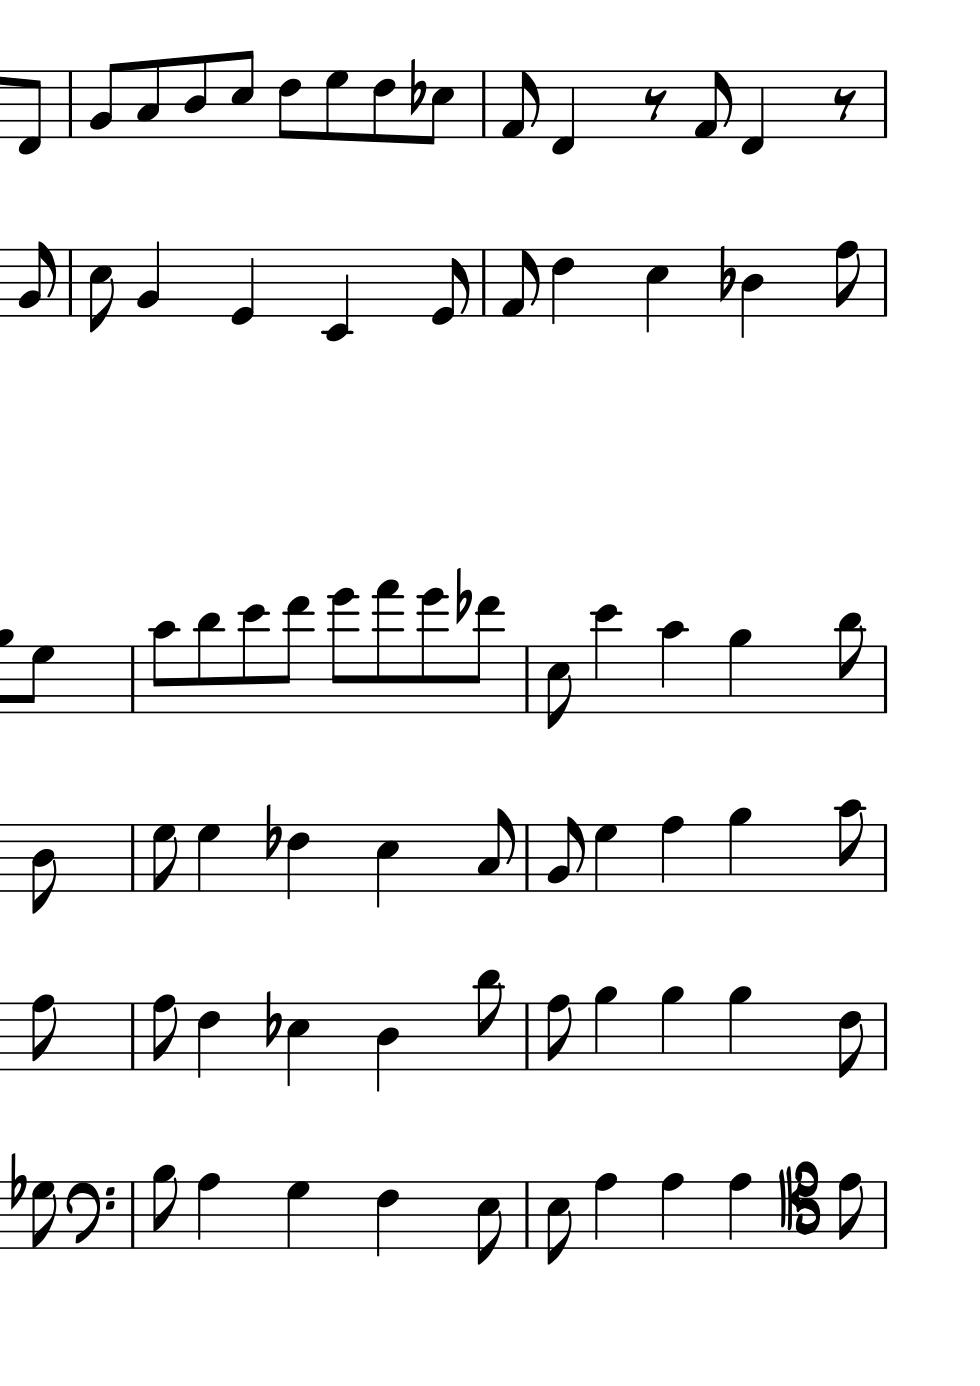4_-1: (738, 69, 765, 157), (549, 69, 576, 156)
4_-2: (322, 247, 351, 343)
4_0: (229, 247, 255, 326)
4_10: (657, 619, 687, 716)
4_12: (590, 604, 620, 715)
4_2: (135, 240, 162, 319)
4_4: (373, 1001, 400, 1095), (739, 247, 764, 339)
4_5: (643, 248, 670, 335), (373, 823, 400, 910), (284, 1001, 310, 1089)
4_6: (373, 1180, 400, 1261), (195, 1001, 221, 1081), (285, 824, 310, 902), (549, 248, 574, 326)
4_7: (591, 822, 618, 893), (284, 1180, 311, 1251), (195, 822, 221, 893)
4_8: (658, 814, 684, 894), (592, 1172, 618, 1251), (659, 1172, 685, 1251), (195, 1172, 221, 1251), (727, 1172, 752, 1251)
4_9: (591, 984, 619, 1072), (727, 628, 753, 715), (725, 806, 752, 893), (658, 984, 684, 1071), (727, 984, 752, 1072)
8_-1: (16, 68, 43, 157)
8_1: (498, 69, 541, 140), (692, 69, 733, 141), (498, 248, 539, 319)
8_10: (835, 799, 867, 894), (148, 619, 180, 714)
8_11: (474, 967, 504, 1073), (193, 611, 223, 716), (836, 610, 865, 715)
8_12: (239, 604, 269, 715)
8_13: (277, 595, 312, 715), (468, 596, 502, 714)
8_14: (327, 587, 358, 716), (417, 587, 447, 716)
8_15: (372, 580, 401, 716)
8_2: (17, 240, 56, 319), (430, 248, 469, 326), (545, 815, 584, 893), (87, 62, 119, 140)
8_3: (476, 808, 514, 893), (134, 57, 161, 140)
8_4: (29, 822, 57, 915), (182, 54, 209, 140)
8_5: (422, 69, 455, 147), (228, 49, 256, 140), (474, 1180, 502, 1267), (544, 643, 571, 731), (544, 1179, 571, 1267), (87, 248, 113, 335)
8_6: (836, 1000, 865, 1081), (275, 69, 301, 141), (370, 69, 395, 145)
8_7: (23, 644, 54, 715), (29, 1179, 57, 1252), (150, 823, 178, 894), (323, 69, 349, 142)
8_8: (28, 993, 58, 1073), (835, 1172, 865, 1251), (148, 993, 178, 1073), (543, 993, 573, 1072), (833, 240, 861, 319)
8_9: (148, 1164, 178, 1251)
Fclef: (64, 1179, 115, 1253)
Flat: (716, 243, 736, 304), (7, 1151, 27, 1213), (262, 802, 281, 862), (262, 989, 281, 1050), (453, 565, 471, 626), (407, 56, 425, 115)
Rests8: (830, 86, 858, 123), (641, 86, 668, 122)
Single_barline: (124, 646, 141, 713), (518, 646, 535, 713), (876, 1003, 893, 1070), (876, 71, 893, 137), (876, 249, 893, 315), (876, 646, 893, 712), (518, 1004, 535, 1069), (518, 1182, 535, 1247), (877, 1181, 893, 1249), (876, 824, 892, 891), (62, 71, 77, 137), (125, 1003, 141, 1069), (124, 1182, 140, 1248), (62, 250, 77, 315), (475, 72, 491, 136), (475, 250, 491, 314), (519, 824, 533, 890), (125, 825, 140, 891)
Tensor_Cclef: (778, 1160, 821, 1250)
